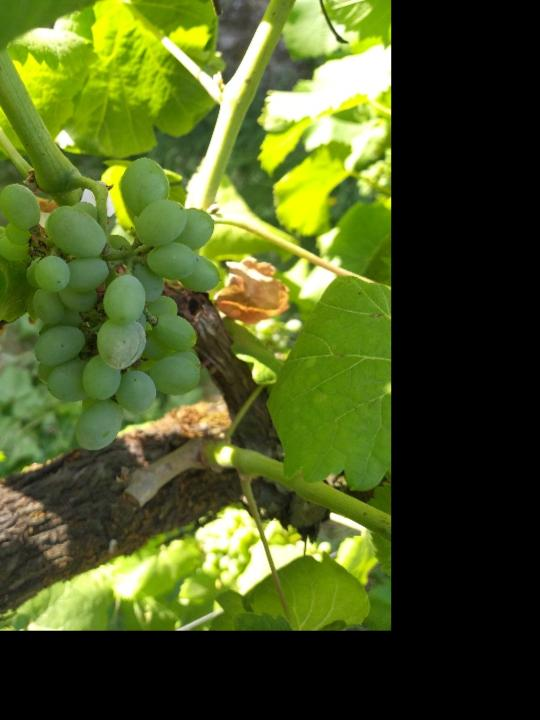grape: (0, 156, 229, 457)
